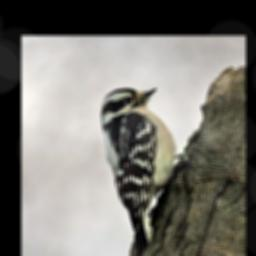Woodpecker: (98, 83, 202, 256)
